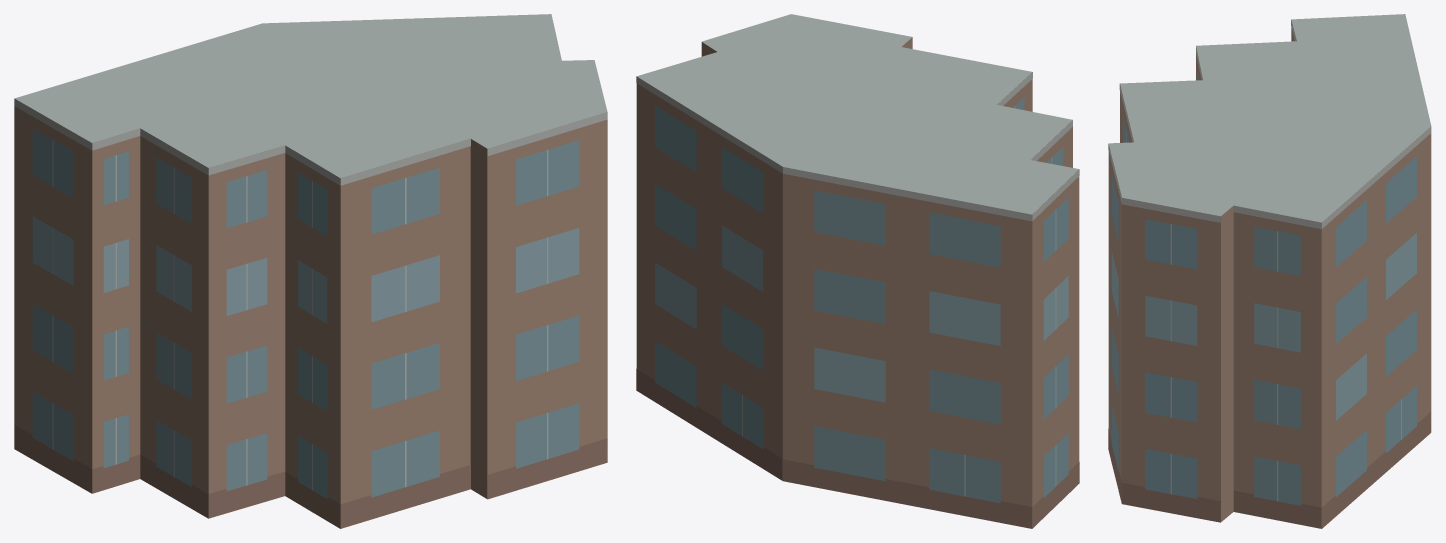
File: survey-upis-32625390.glb
3 renders of one model, left to right at view 1: azimuth 30°, elevation 25°; view 2: azimuth 150°, elevation 25°; view 3: azimuth 270°, elevation 25°, orthographic. The views are drawn at different scales.
Parts seen in each view (by area): view 1: survey-upis-32625390.tmp; view 2: survey-upis-32625390.tmp; view 3: survey-upis-32625390.tmp.
Boxes of the visible parts, x1,y1,x2,y2 form: survey-upis-32625390.tmp: (14, 14, 607, 528); survey-upis-32625390.tmp: (636, 14, 1079, 528); survey-upis-32625390.tmp: (1108, 14, 1431, 528).
Size of the model in its own units: 16.59 by 11.35 by 10.86.
